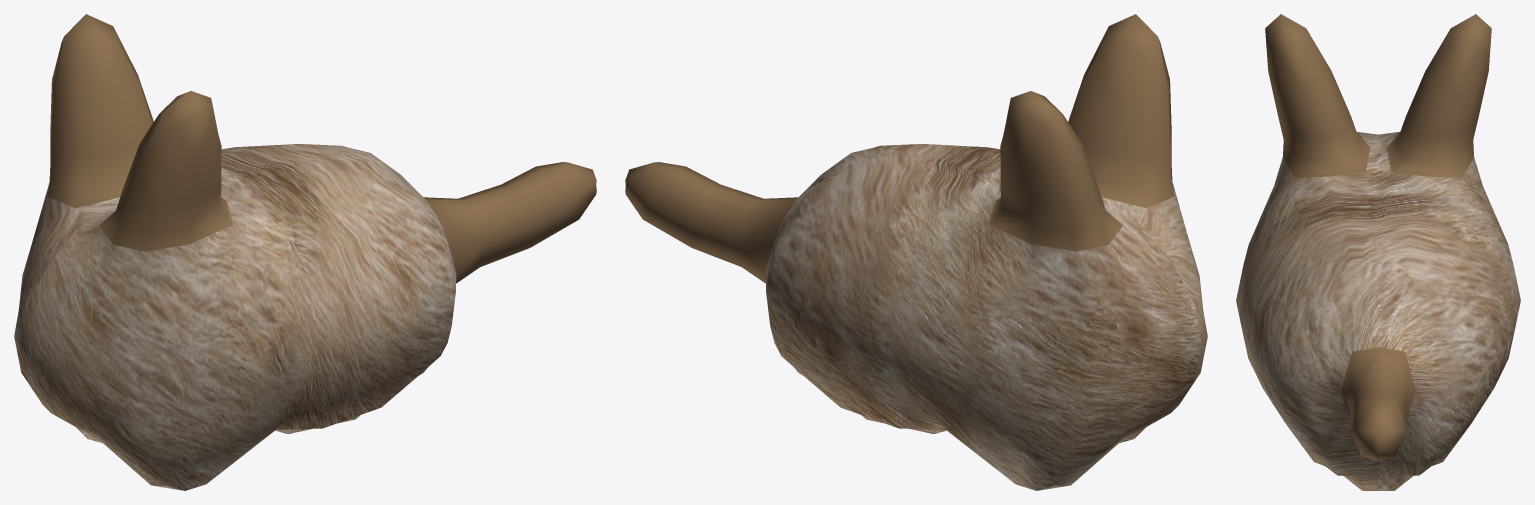
The model's file is 01bunny.dae.
3 views of the same model, side by side, from view 1: azimuth 30°, elevation 25°; view 2: azimuth 150°, elevation 25°; view 3: azimuth 270°, elevation 25° (orthographic). The views are drawn at different scales.
Visible parts, largest first — view 1: Box01; view 2: Box01; view 3: Box01.
Boxes of the visible parts, x1,y1,x2,y2 form: Box01: (14, 14, 596, 490); Box01: (625, 14, 1207, 490); Box01: (1236, 14, 1520, 490).
Size of the model in its own units: 168 by 77.25 by 115.
